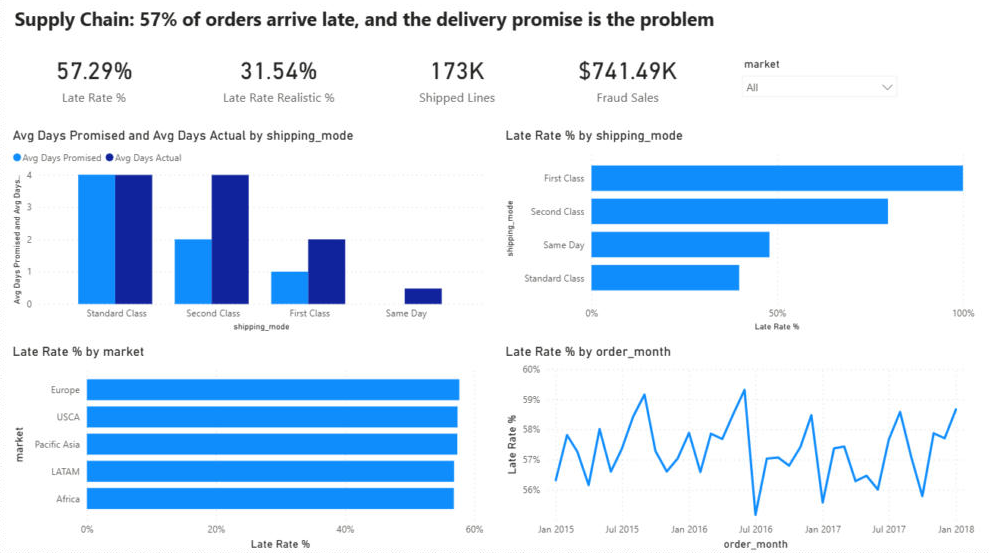

What the dashboard file says about the page in this screenshot:
{"tool":"powerbi","page":{"name":"Page 1","canvas":[1280,720],"ordinal":0},"visuals":[{"type":"card","fields":{"Values":["orders.Fraud Sales"]},"box":[701.7,59.9,220,90.5],"z":0},{"type":"card","fields":{"Values":["orders.Late Rate Realistic %"]},"box":[251.8,59.9,220,90.5],"z":1},{"type":"card","fields":{"Values":["orders.Shipped Lines"]},"box":[481.6,59.9,220,90.5],"z":2},{"type":"card","fields":{"Values":["orders.Late Rate %"]},"box":[13.4,59.9,220,90.5],"z":3},{"type":"slicer","fields":{"Values":["orders.market"]},"box":[948.6,74.6,220,150.4],"z":4},{"type":"clusteredColumnChart","fields":{"Category":["orders.shipping_mode"],"Y":["orders.Avg Days Promised","orders.Avg Days Actual"]},"box":[13.4,169.9,617.3,267.7],"z":5},{"type":"clusteredBarChart","fields":{"Category":["orders.shipping_mode"],"Y":["orders.Late Rate %"]},"box":[649.1,169.9,614.9,267.7],"z":6},{"type":"clusteredBarChart","fields":{"Category":["orders.market"],"Y":["orders.Late Rate %"]},"box":[13.4,448.6,617.3,271.4],"z":7},{"type":"lineChart","fields":{"Y":["orders.Late Rate %"],"Category":["orders.order_month"]},"box":[649.1,448.6,614.9,271.4],"z":8},{"type":"textbox","box":[15.9,8.6,1248.1,44],"z":9}]}

Visuals, with their boxes in screenshot pixels (x1, y1, x2, y2), scaled from the page's 1280x720 canvas onto the 989x553 screenshot:
card - orders.Fraud Sales: pyautogui.locateOnScreen(542, 46, 712, 116)
card - orders.Late Rate Realistic %: pyautogui.locateOnScreen(195, 46, 365, 116)
card - orders.Shipped Lines: pyautogui.locateOnScreen(372, 46, 542, 116)
card - orders.Late Rate %: pyautogui.locateOnScreen(10, 46, 180, 116)
slicer - orders.market: pyautogui.locateOnScreen(733, 57, 903, 173)
clusteredColumnChart - orders.shipping_mode x orders.Avg Days Promised: pyautogui.locateOnScreen(10, 130, 487, 336)
clusteredBarChart - orders.shipping_mode x orders.Late Rate %: pyautogui.locateOnScreen(502, 130, 977, 336)
clusteredBarChart - orders.market x orders.Late Rate %: pyautogui.locateOnScreen(10, 345, 487, 552)
lineChart - orders.Late Rate % x orders.order_month: pyautogui.locateOnScreen(502, 345, 977, 552)
textbox: pyautogui.locateOnScreen(12, 7, 977, 40)
